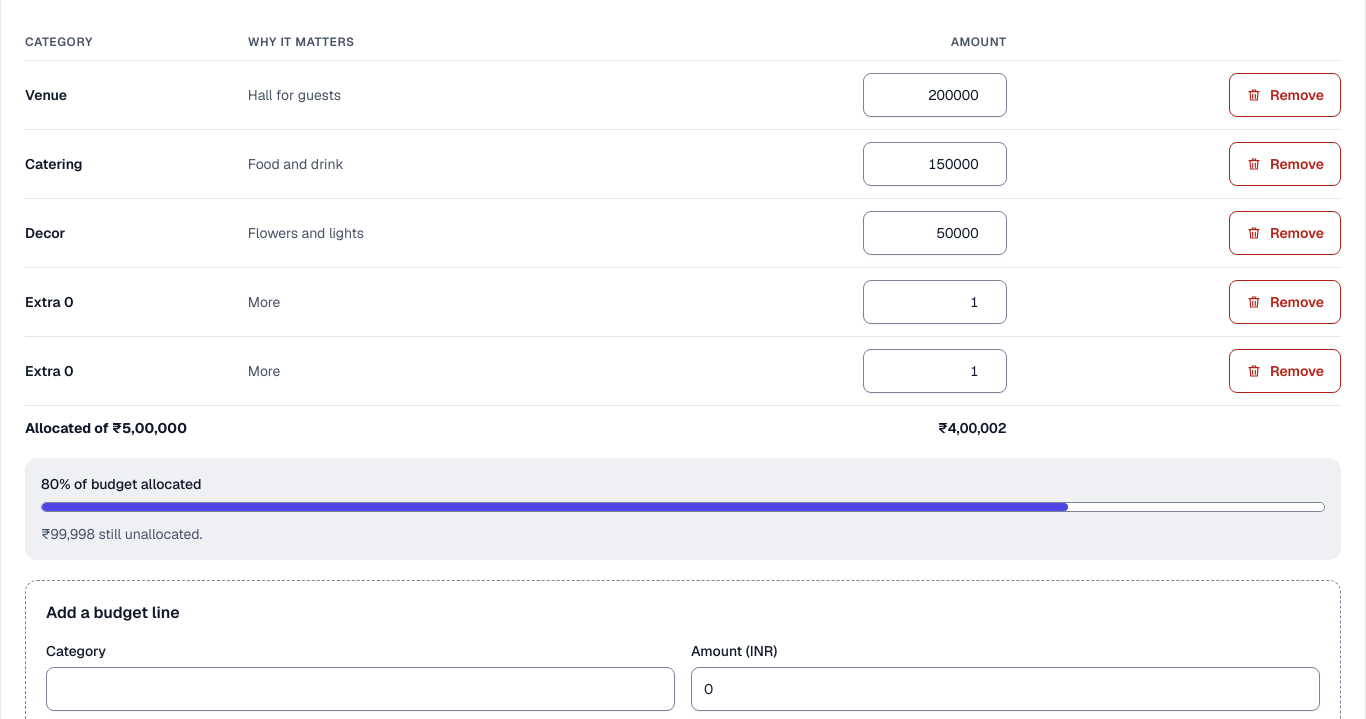
Test case: BudgetTable (remove line) › announces each removal in a visible polite status region
What coordinates should you click on to do the following:
click the button with aria-label "Remove Decor"
I would click on:
 (1285, 233)
Its box is [1229,211,1341,255].
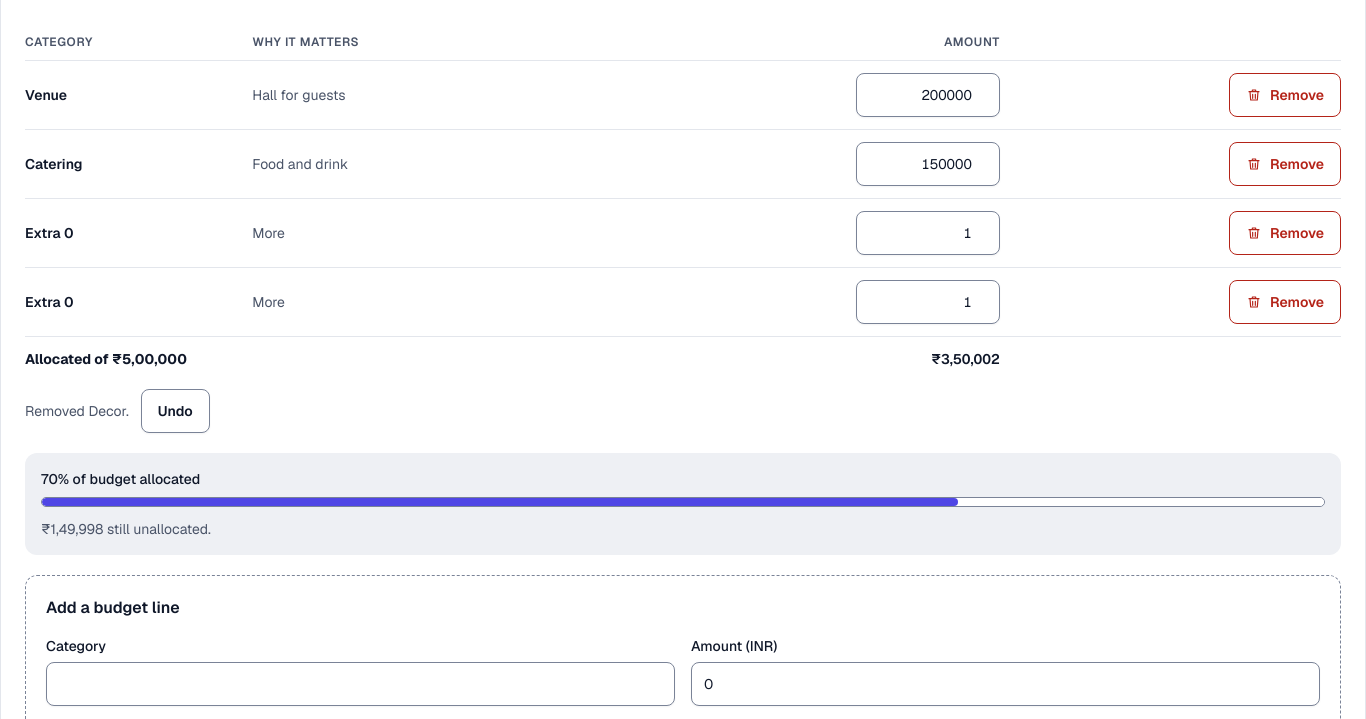
Expected: the text "Removed Decor." is shown, [25,401,129,421]
What coordinates should you click on to do the following:
click the button with aria-label "Remove Venue"
I would click on:
 (1285, 95)
Its box is [1229,73,1341,117].
(page scrolled)
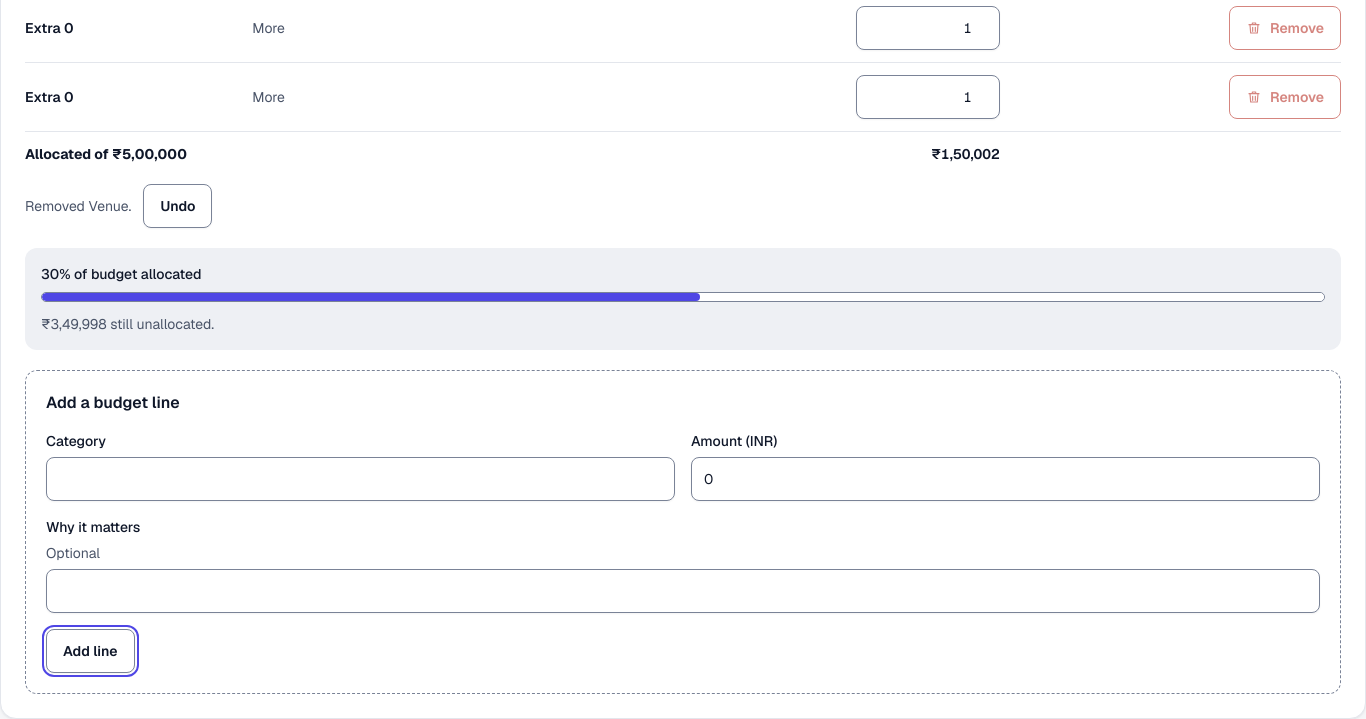
Expected: the text "Removed Decor." reads "Removed Venue.", [25,197,131,215]
